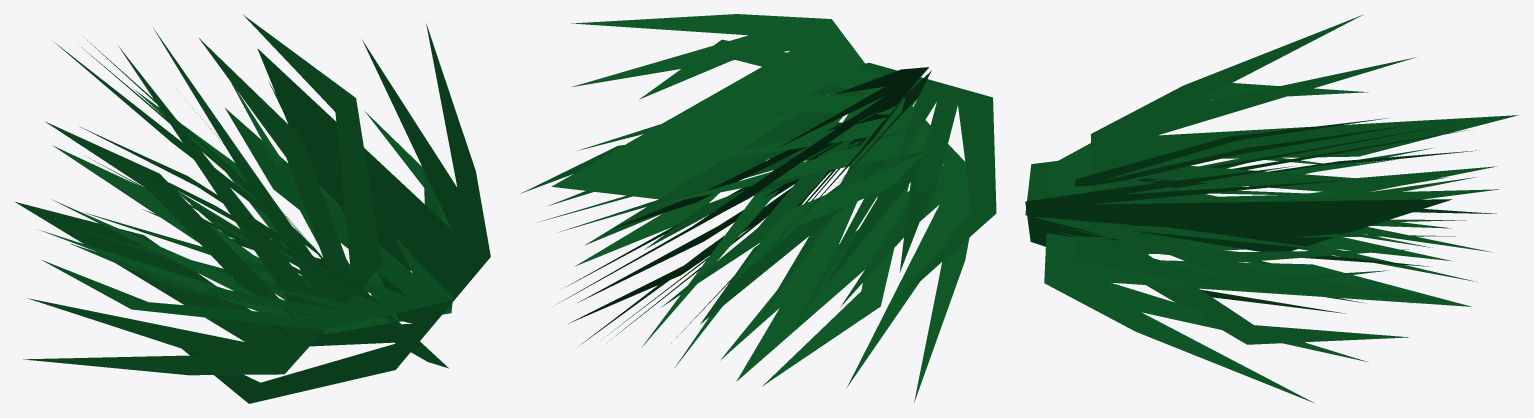
The model's file is grass2.fbx.
3 renders of one model, left to right at view 1: azimuth 30°, elevation 25°; view 2: azimuth 150°, elevation 25°; view 3: azimuth 270°, elevation 25°, orthographic. The views are drawn at different scales.
Visible parts, largest first — view 1: Plane; view 2: Plane; view 3: Plane.
Part boxes in pixels (x1,y1,x2,y2): Plane: [14, 15, 490, 403]; Plane: [520, 14, 996, 402]; Plane: [1025, 14, 1518, 402].
Size of the model in its own units: 80.8 by 70.13 by 111.
